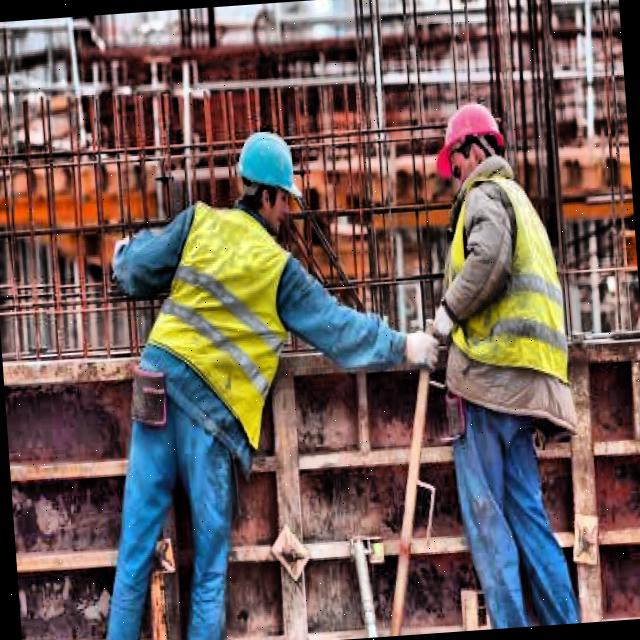helmet: (228, 118, 306, 240), (430, 91, 517, 192)
